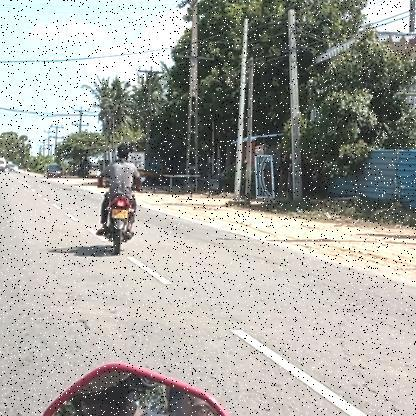motorcycle: (94, 192, 142, 256)
